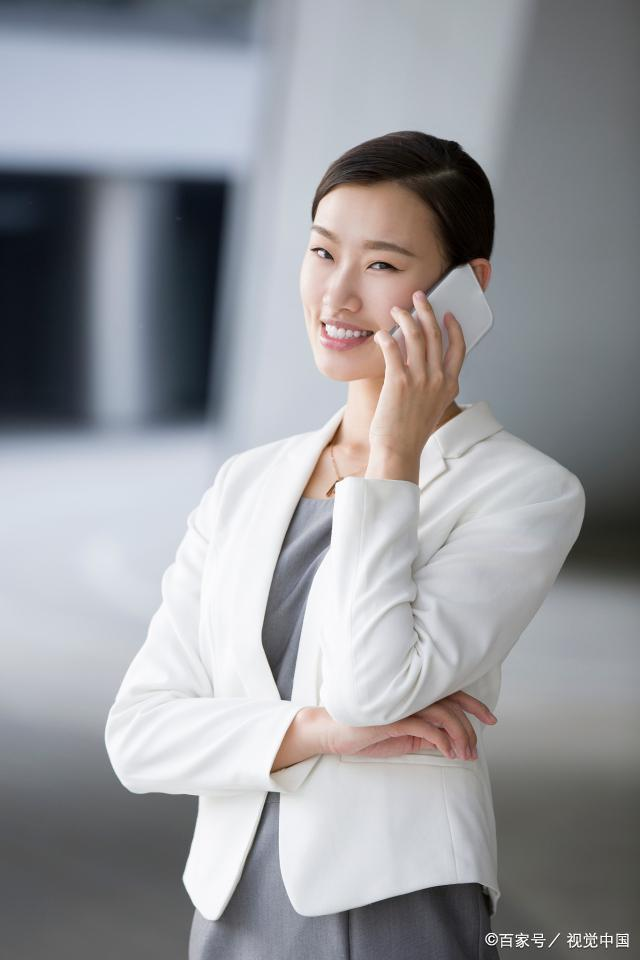calling: (369, 259, 497, 450)
